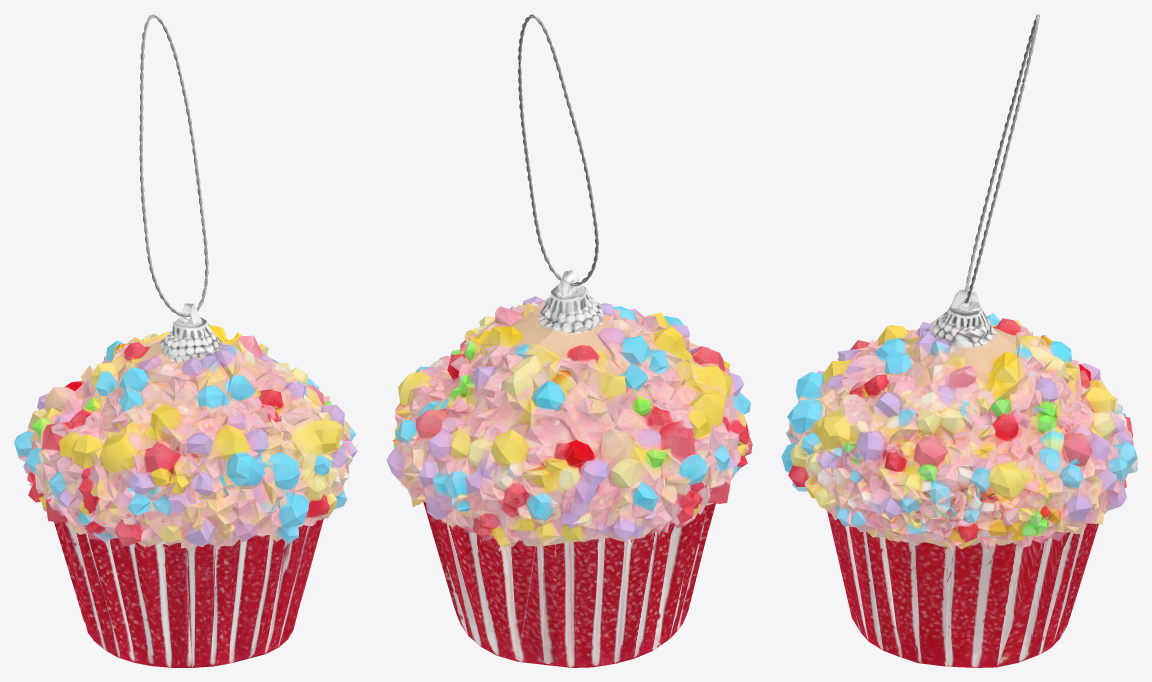
File: cupcake4.glb
3 views of the same model, side by side, from view 1: azimuth 30°, elevation 25°; view 2: azimuth 150°, elevation 25°; view 3: azimuth 270°, elevation 25° (orthographic). The views are drawn at different scales.
Parts seen in each view (by area): view 1: Mesh1.0, GN Instance; view 2: Mesh1.0, GN Instance; view 3: Mesh1.0, GN Instance.
Part boxes in pixels (<box>): Mesh1.0: <box>14,303,357,667</box>; GN Instance: <box>139,14,208,316</box>; Mesh1.0: <box>386,270,752,667</box>; GN Instance: <box>517,14,598,286</box>; Mesh1.0: <box>781,289,1137,667</box>; GN Instance: <box>964,14,1039,303</box>.
Bounding box in the file's own units: 0.07 × 0.1367 × 0.0721.
2 materials, 1 textured.
